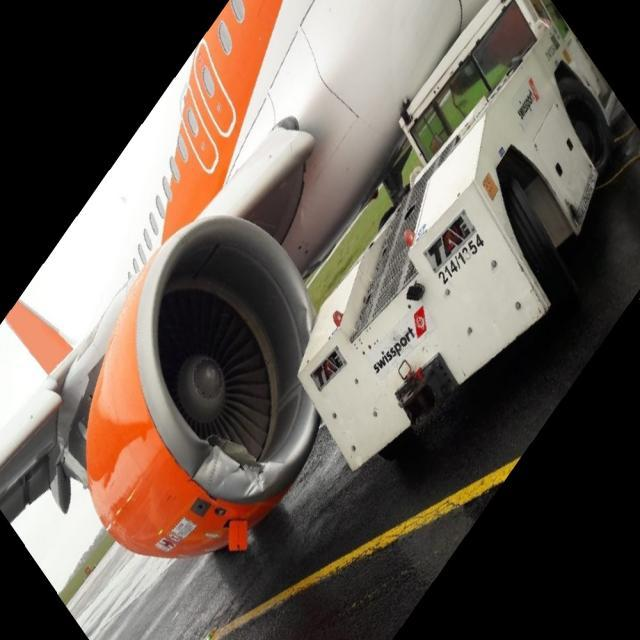crack: (207, 437, 268, 479)
dent: (193, 473, 273, 498), (290, 299, 319, 345), (190, 447, 215, 472)
